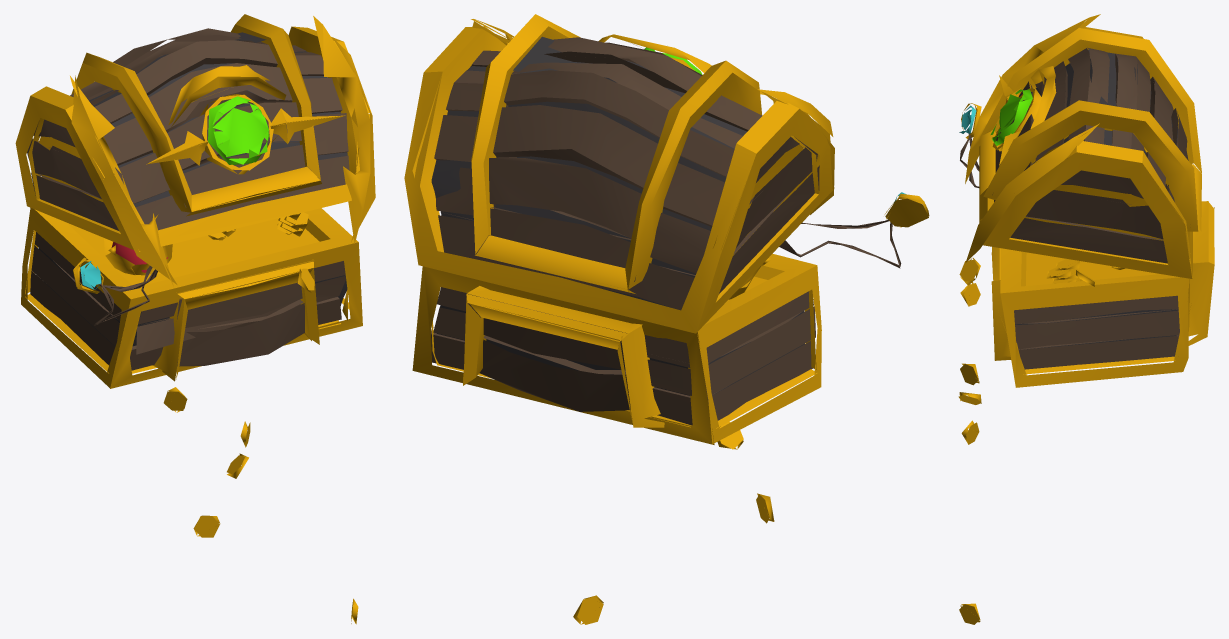
Rendered from sea_chest.glb.
The picture shows the model from 3 angles, left to right: view 1: azimuth 30°, elevation 25°; view 2: azimuth 150°, elevation 25°; view 3: azimuth 270°, elevation 25°; orthographic projection. The views are drawn at different scales.
Parts seen in each view (by area): view 1: Ocean Chest; view 2: Ocean Chest; view 3: Ocean Chest.
Boxes of the visible parts, x1=… form: Ocean Chest: x1=15, y1=14, x2=375, y2=624; Ocean Chest: x1=404, y1=14, x2=929, y2=624; Ocean Chest: x1=958, y1=14, x2=1214, y2=624.
Size of the model in its own units: 1.25 by 2.03 by 0.9093.
1 material, 1 textured.
